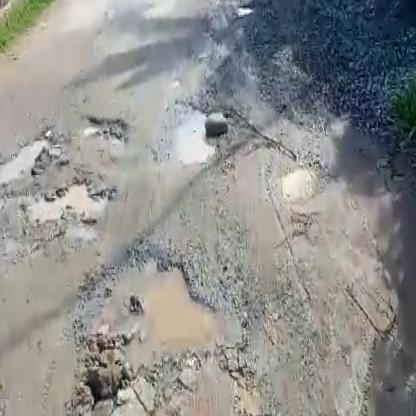pothole: (71, 240, 246, 373), (18, 177, 117, 226), (166, 96, 219, 172), (0, 129, 51, 186), (79, 109, 135, 152)
